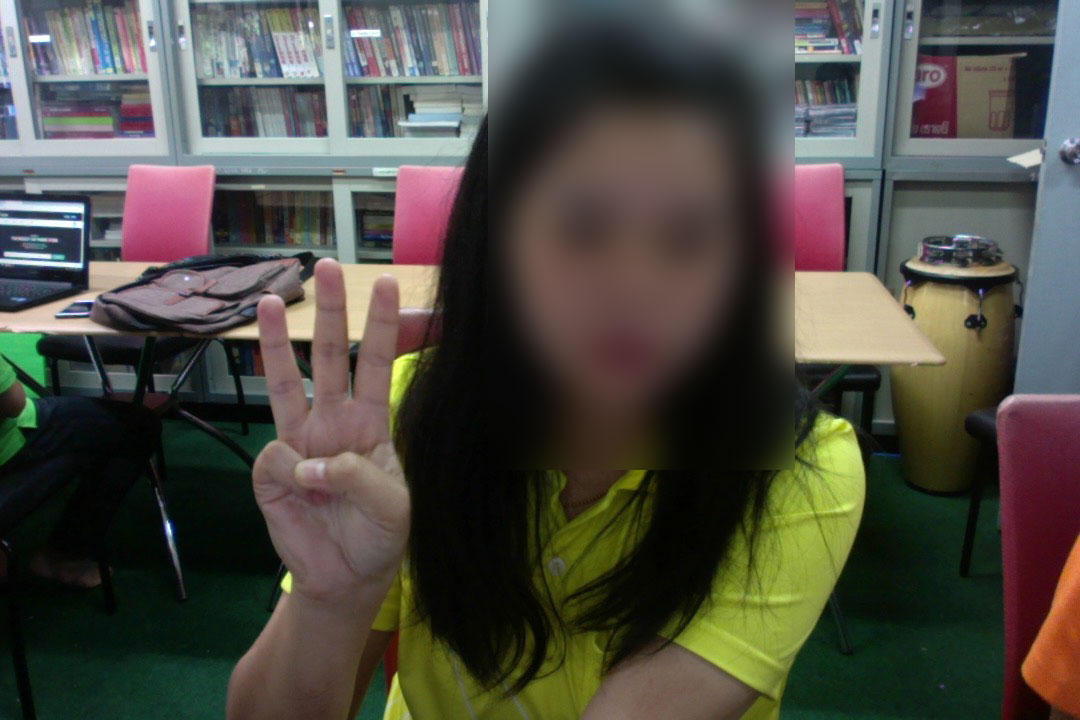wor: (238, 259, 421, 604)
